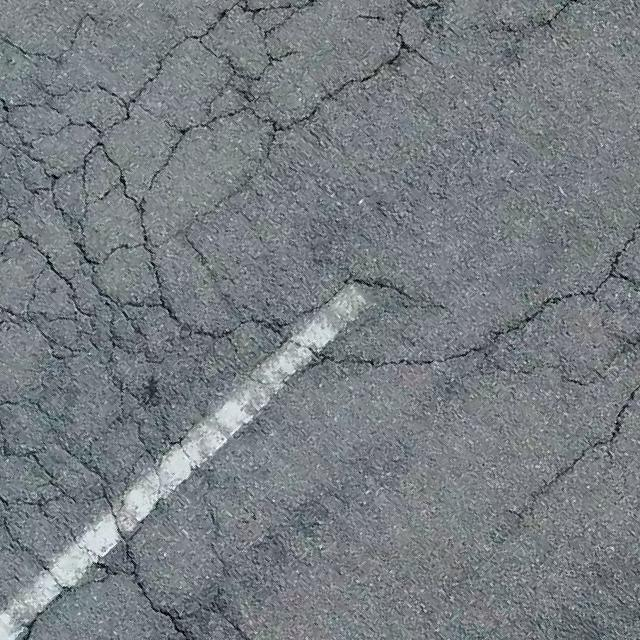GRIETA: (321, 224, 639, 367), (515, 382, 639, 517), (483, 337, 638, 387), (294, 278, 449, 320), (616, 271, 639, 286)
PIEL DE COCODRILO: (0, 0, 590, 639)
